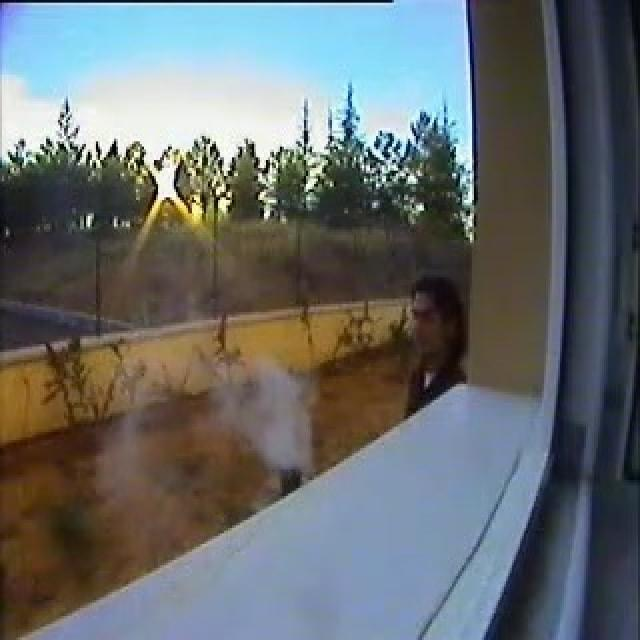smoke: (227, 360, 315, 469)
